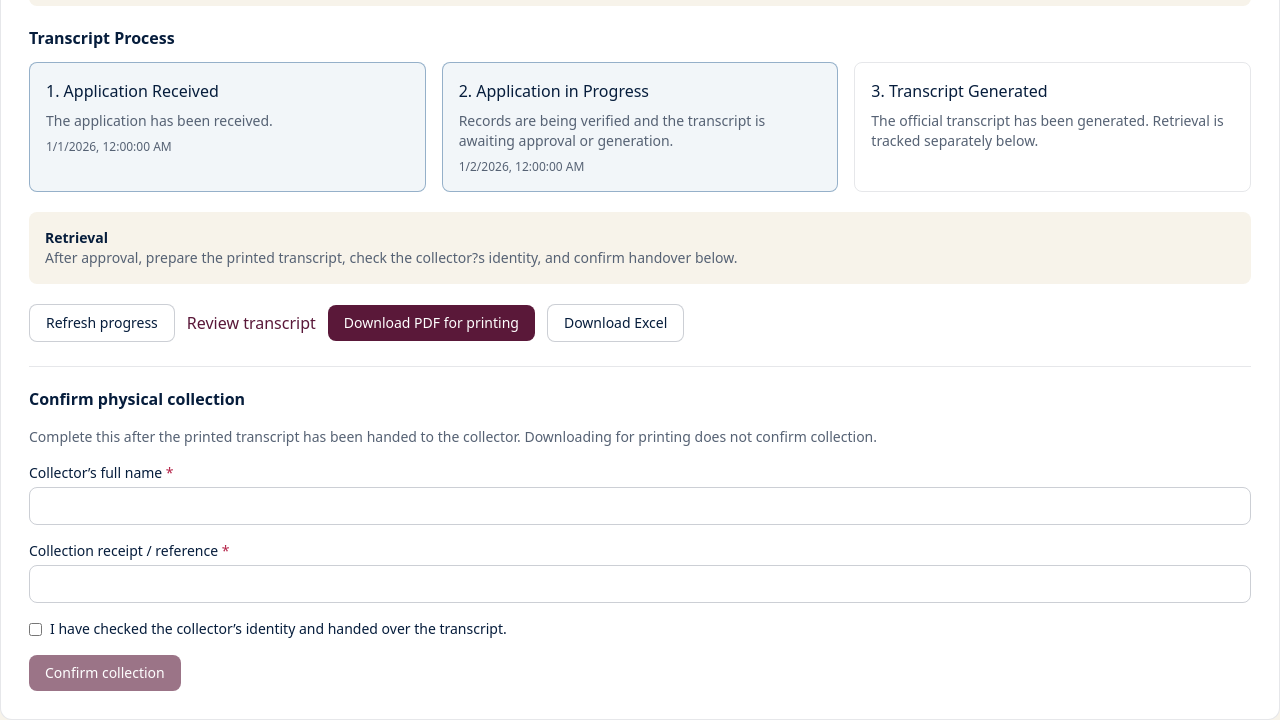
Guided transcript retrieval › requires collector details and explicit handover before confirming physical collection
This screenshot has width=1280, height=720.
(page scrolled)
Expected: the button "Confirm collection" is disabled, [29, 655, 181, 691]
Type "Ada Lovelace" into the field labelled "Collector’s full name *". click: (640, 506)
box: [29, 487, 1251, 525]
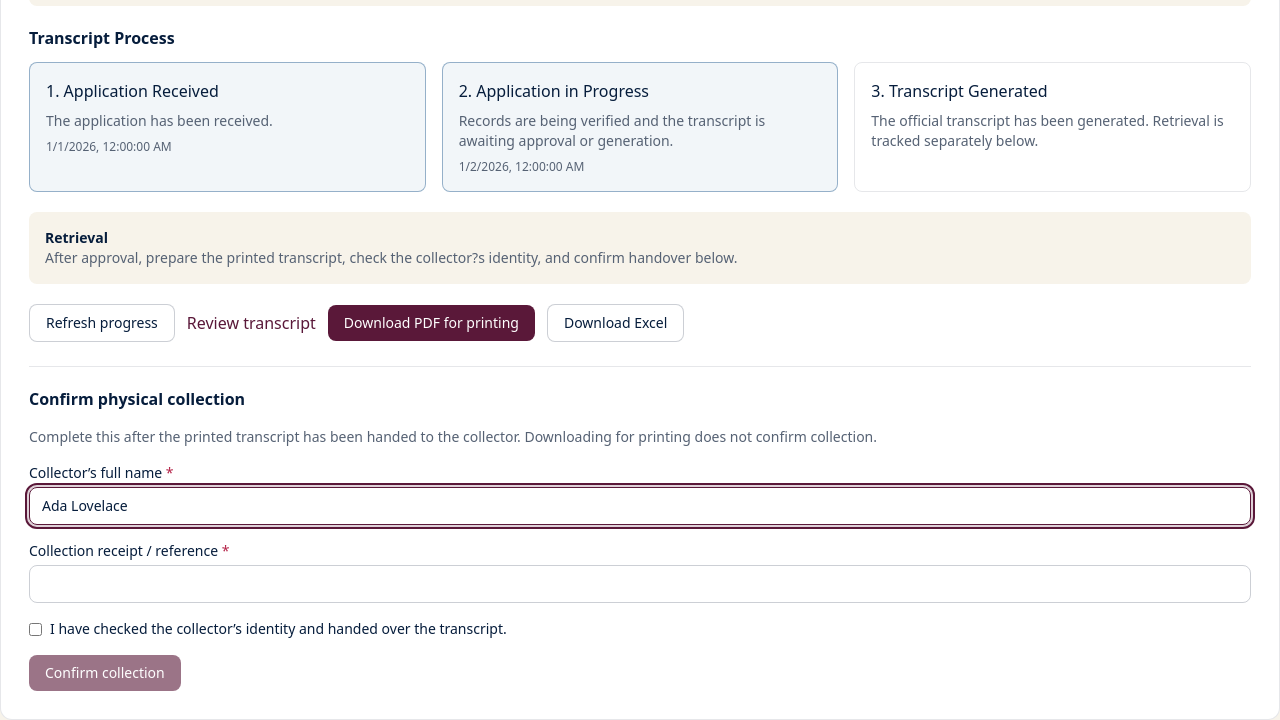
Type "REC-001" into the field labelled "Collection receipt / reference *". click: (640, 584)
box: [29, 565, 1251, 603]
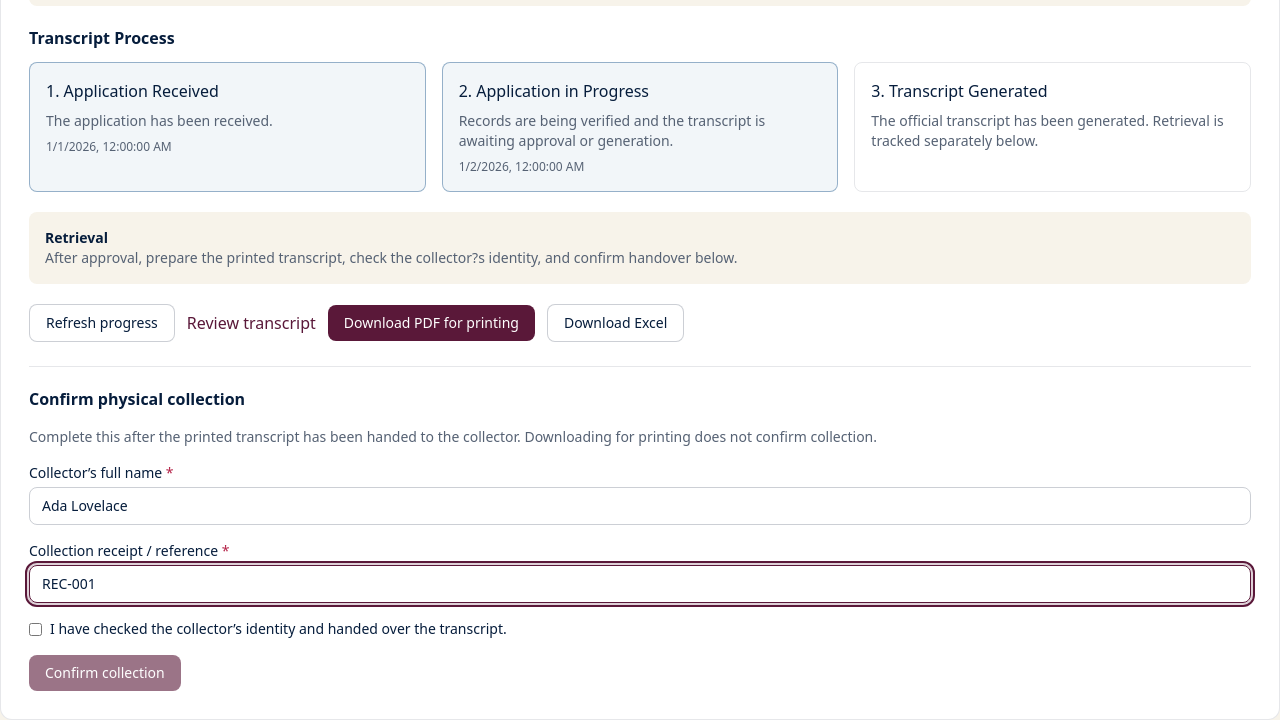
Expected: the button "Confirm collection" is disabled, [29, 655, 181, 691]
Click the checkbox. click: (36, 629)
box: [29, 622, 42, 636]
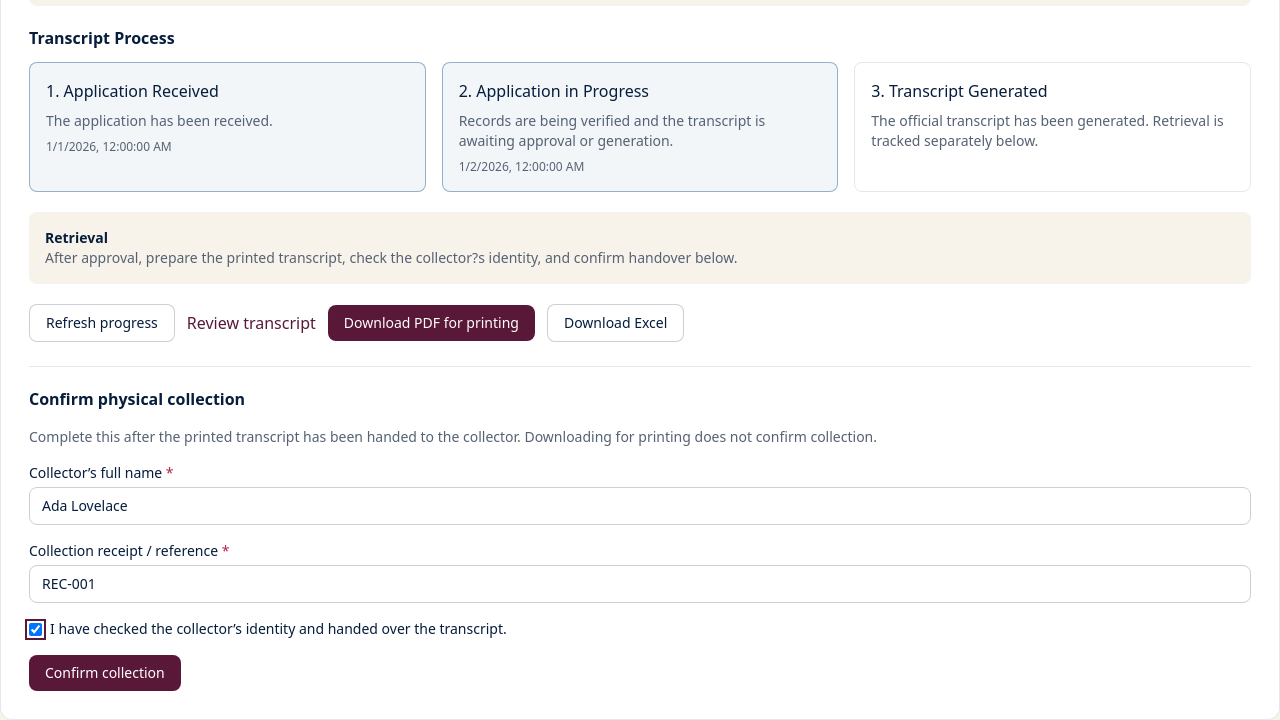
Click the button "Confirm collection". click: (105, 673)
box: [29, 655, 181, 691]
(page scrolled)
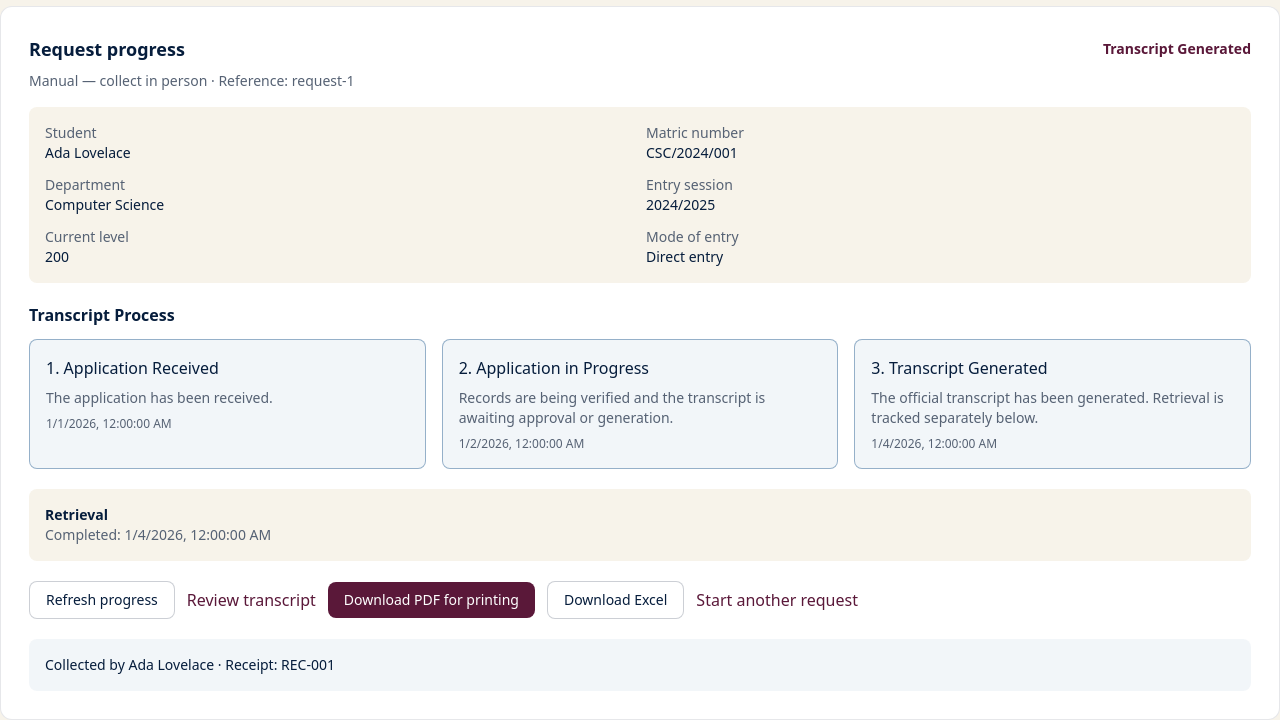
Result: the text "Collected by Ada Lovelace · Receipt: REC-001" is shown at [29, 639, 1251, 691]
Result: the text "Confirm collection" is gone
